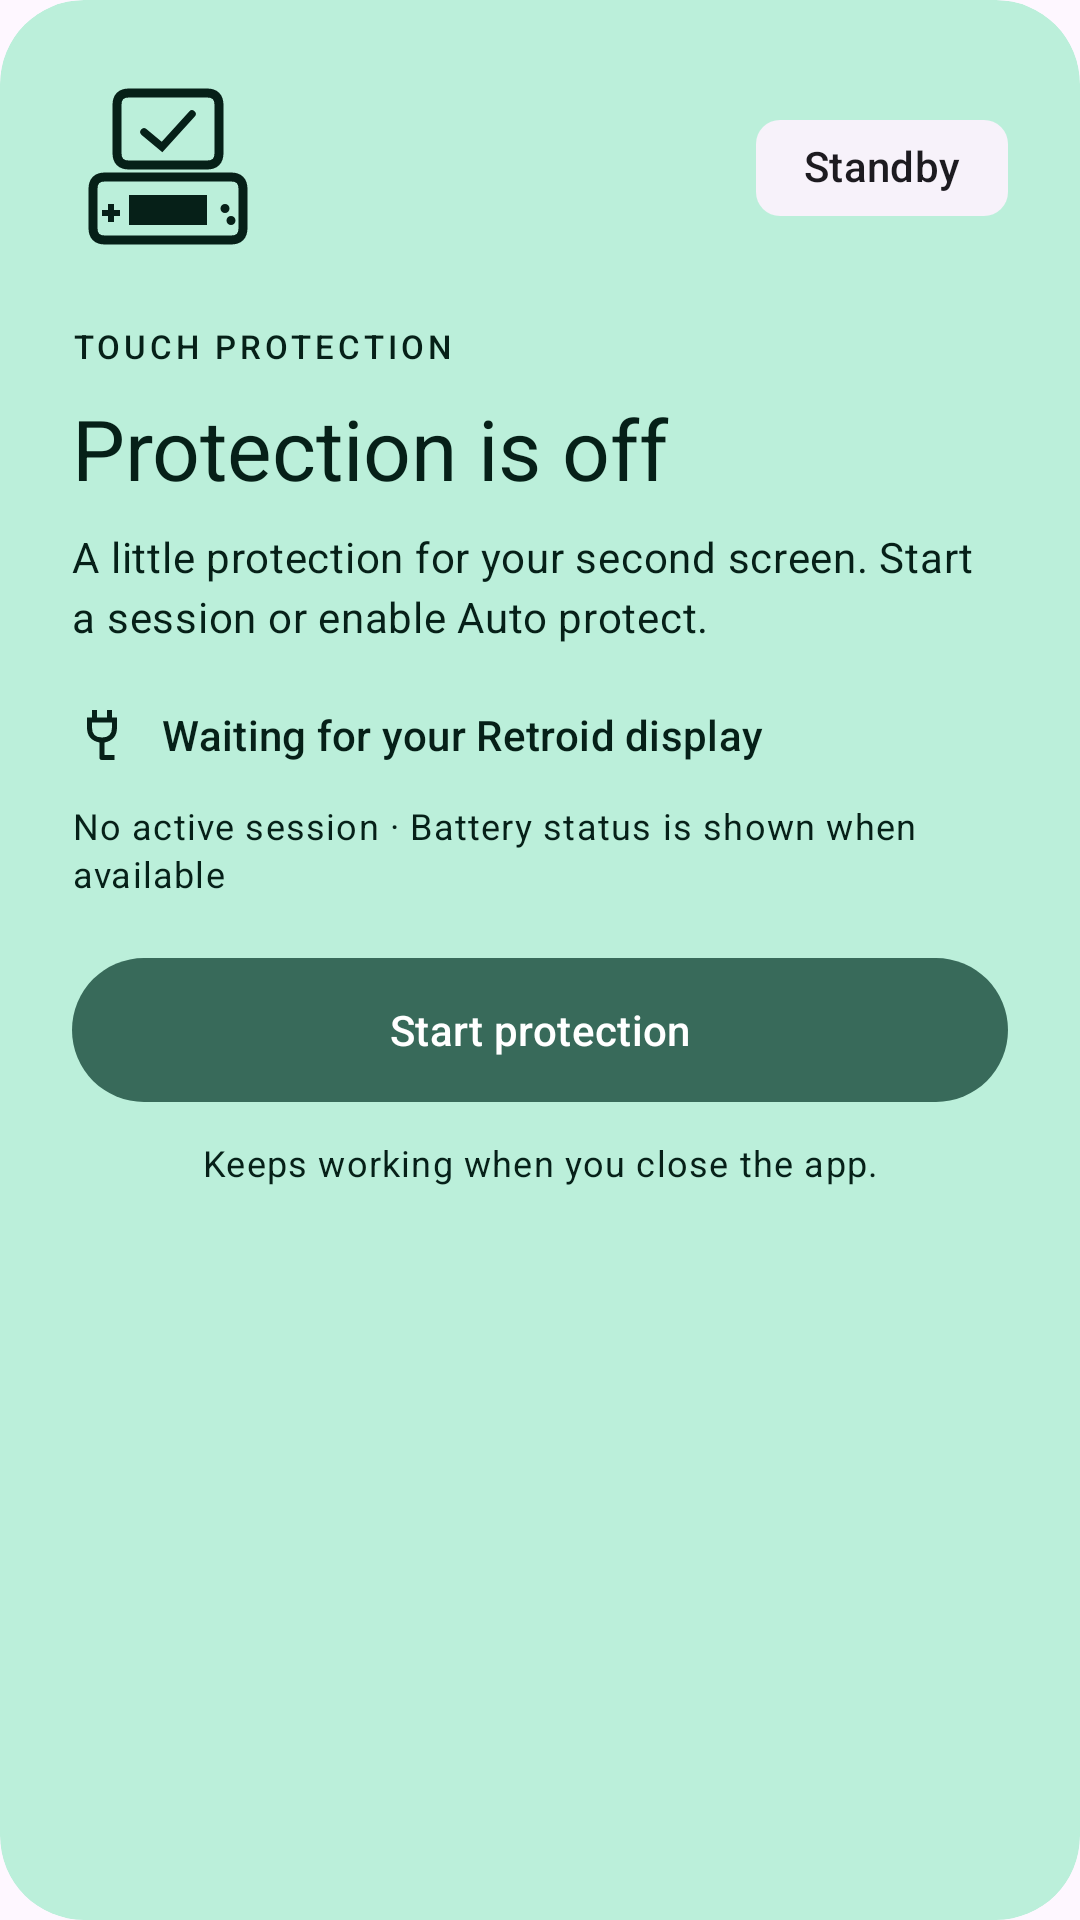

Where to tap for icons on this 1080x1920 app screen, as (x,y):
cable: (102,735)
duo: (168,166)
